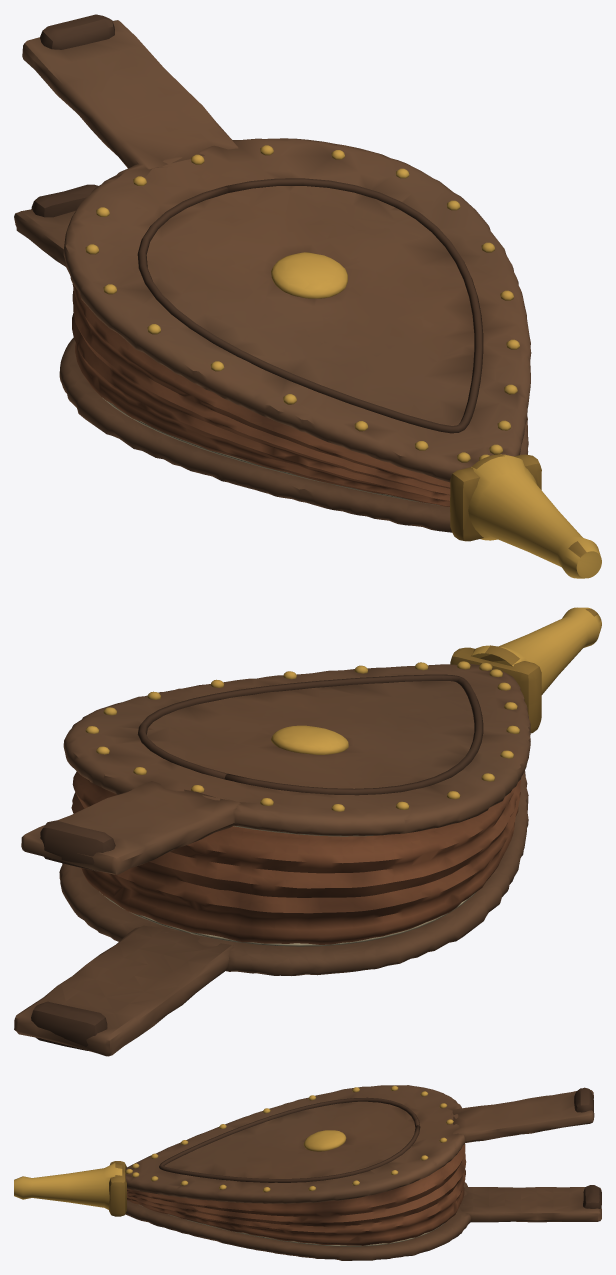
Rendered from ember_bellows.glb.
3 renders of one model, top to bottom at view 1: azimuth 30°, elevation 25°; view 2: azimuth 150°, elevation 25°; view 3: azimuth 270°, elevation 25°, orthographic. The views are drawn at different scales.
Parts seen in each view (by area): view 1: bellows_top, ember_bellows; view 2: ember_bellows, bellows_top; view 3: bellows_top, ember_bellows.
Boxes of the visible parts, x1,y1,x2,y2 form: bellows_top: (22, 14, 531, 482); ember_bellows: (14, 184, 601, 578); ember_bellows: (14, 607, 601, 1056); bellows_top: (21, 661, 530, 874); bellows_top: (125, 1085, 594, 1203); ember_bellows: (14, 1144, 601, 1260).
Bounding box in the file's own units: 27.2 × 14.3 × 65.06.
